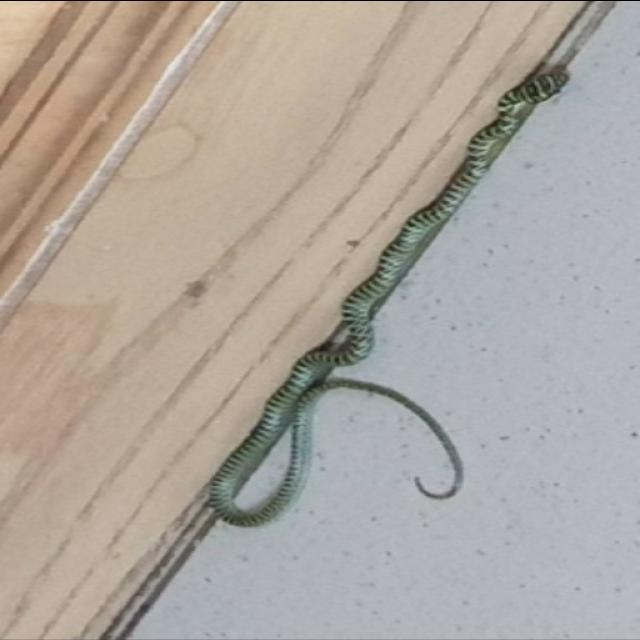snake: (178, 46, 594, 544)
